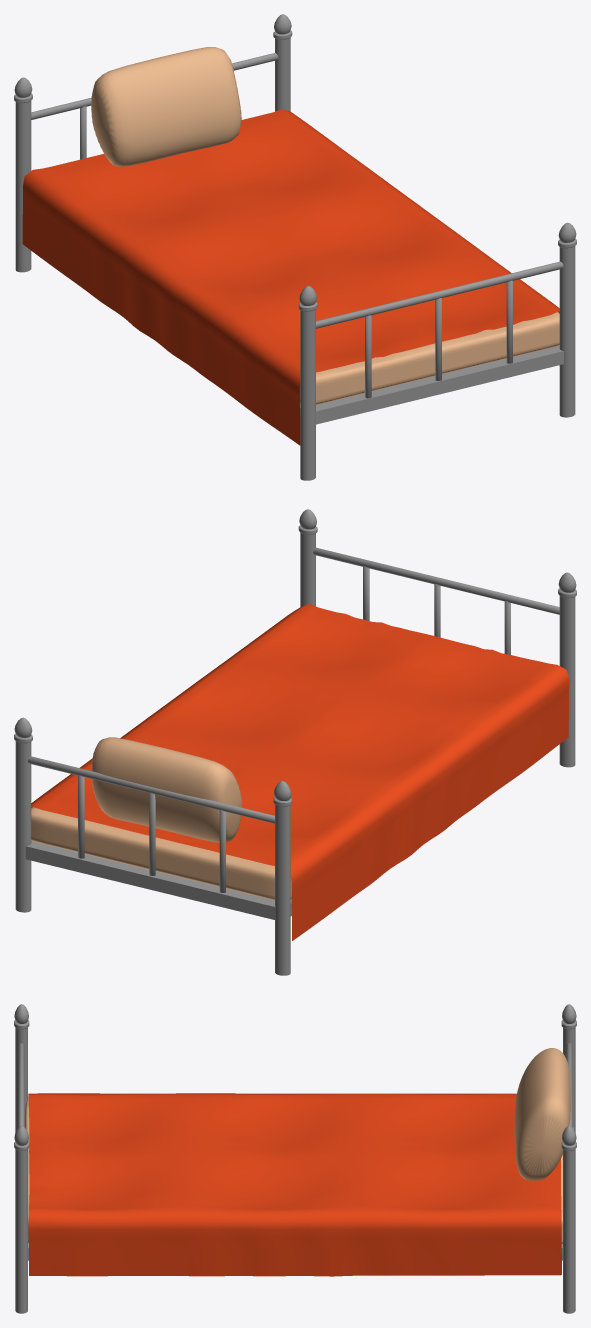
File: bed_tier2.fbx
The picture shows the model from 3 angles, top to bottom: view 1: azimuth 30°, elevation 25°; view 2: azimuth 150°, elevation 25°; view 3: azimuth 270°, elevation 25°; orthographic projection. The views are drawn at different scales.
Visible parts, largest first — view 1: Plane, Cylinder.012, Cube.001, Cube, Cylinder.006, Cylinder.007, Cylinder.001, Cylinder.005, Cylinder, Cylinder.004; view 2: Plane, Cylinder.012, Cube.001, Cube, Cylinder, Cylinder.001, Cylinder.007, Cylinder.005, Cylinder.004, Cylinder.006; view 3: Plane, Cylinder.012, Cylinder, Cylinder.006, Cylinder.007, Cylinder.001, Cylinder.005, Cube.001.
Part boxes in pixels (<box>): Plane: <box>22,109,559,445</box>; Cylinder.012: <box>91,47,241,166</box>; Cube.001: <box>299,312,559,404</box>; Cube: <box>300,345,563,424</box>; Cylinder.006: <box>558,222,576,417</box>; Cylinder.007: <box>298,286,317,480</box>; Cylinder.001: <box>14,77,32,272</box>; Cylinder.005: <box>316,261,563,328</box>; Cylinder: <box>273,14,292,111</box>; Cylinder.004: <box>31,53,278,119</box>; Plane: <box>31,603,569,940</box>; Cylinder.012: <box>91,737,242,842</box>; Cube.001: <box>31,807,291,900</box>; Cube: <box>25,841,291,920</box>; Cylinder: <box>14,717,32,912</box>; Cylinder.001: <box>273,781,292,975</box>; Cylinder.007: <box>558,572,576,767</box>; Cylinder.005: <box>313,547,559,614</box>; Cylinder.004: <box>28,756,274,823</box>; Cylinder.006: <box>298,509,317,606</box>; Plane: <box>28,1093,561,1276</box>; Cylinder.012: <box>514,1048,570,1180</box>; Cylinder: <box>561,1126,576,1313</box>; Cylinder.006: <box>14,1126,29,1313</box>; Cylinder.007: <box>14,1004,29,1132</box>; Cylinder.001: <box>561,1004,576,1132</box>; Cylinder.005: <box>18,1043,24,1127</box>; Cube.001: <box>24,1100,562,1244</box>.
Bounding box in the file's own units: 197 × 131 × 361.
